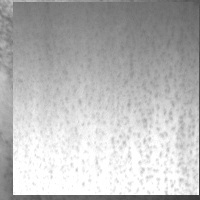pitted_surface: (4, 2, 192, 196), (13, 2, 199, 195)
